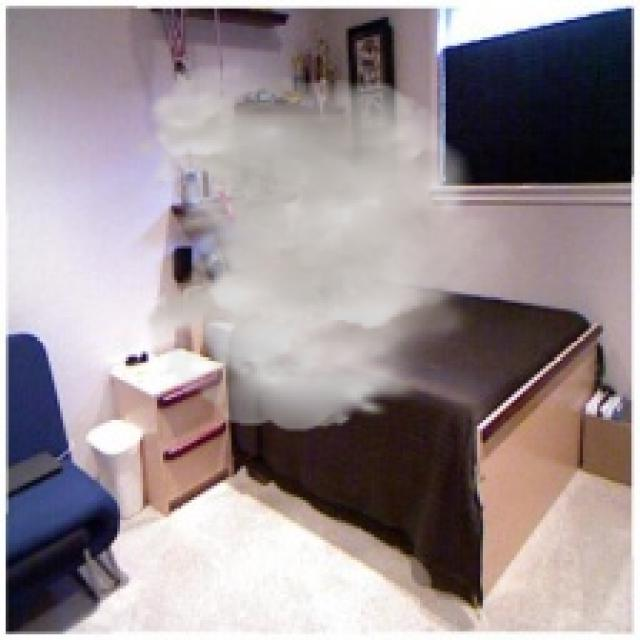smoke: (134, 63, 520, 431)
